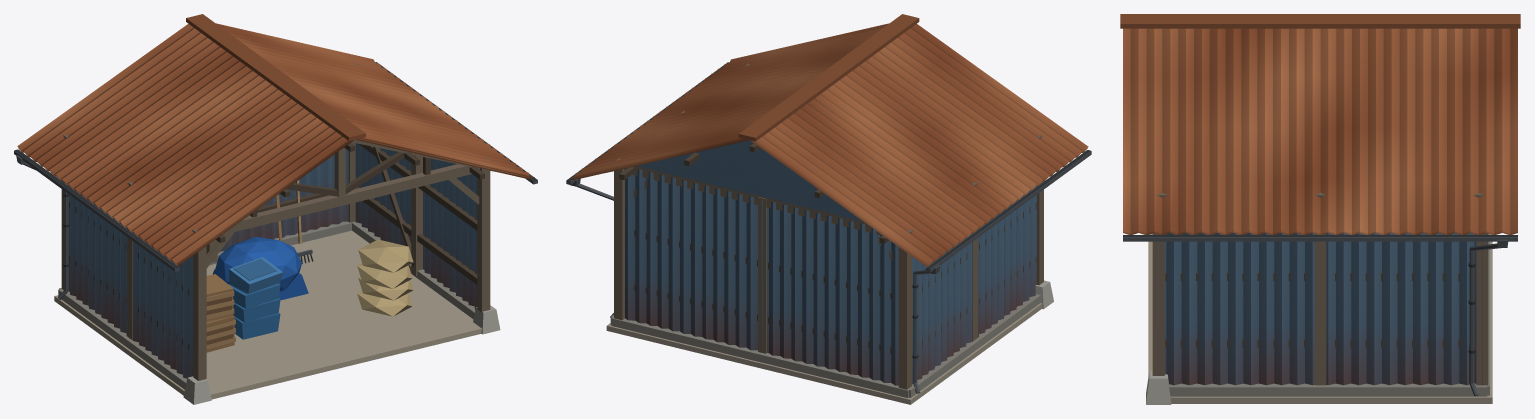
The model's file is shed_blue.glb.
3 views of the same model, side by side, from view 1: azimuth 30°, elevation 25°; view 2: azimuth 150°, elevation 25°; view 3: azimuth 270°, elevation 25° (orthographic). The views are drawn at different scales.
Parts seen in each view (by area): view 1: shed_blue; view 2: shed_blue; view 3: shed_blue.
Boxes of the visible parts, bbox=[...] form: shed_blue: bbox=[14, 14, 537, 404]; shed_blue: bbox=[566, 14, 1091, 404]; shed_blue: bbox=[1120, 14, 1520, 404].
Bounding box in the file's own units: 6.09 × 3.81 × 4.7.
